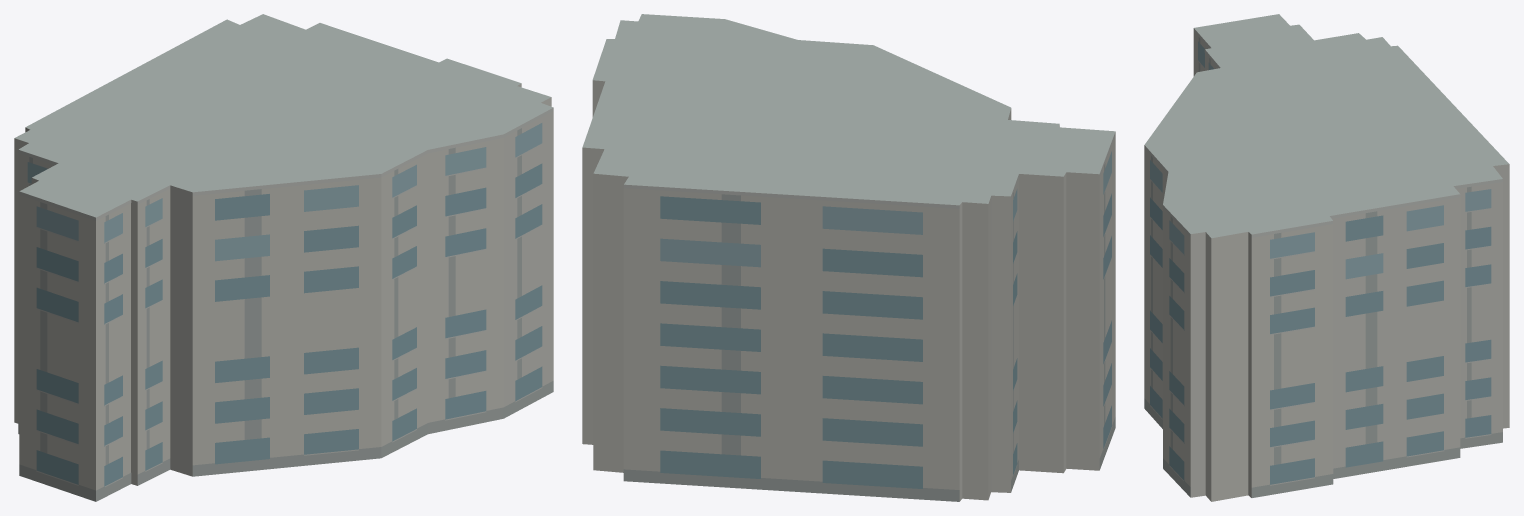
Rendered from survey-upis-32920580.glb.
3 renders of one model, left to right at view 1: azimuth 30°, elevation 25°; view 2: azimuth 150°, elevation 25°; view 3: azimuth 270°, elevation 25°, orthographic. The views are drawn at different scales.
Visible parts, largest first — view 1: survey-upis-32920580.tmp; view 2: survey-upis-32920580.tmp; view 3: survey-upis-32920580.tmp.
Part boxes in pixels (left/top/right/bottom): survey-upis-32920580.tmp: left=14, top=14, right=553, bottom=501; survey-upis-32920580.tmp: left=582, top=14, right=1115, bottom=501; survey-upis-32920580.tmp: left=1144, top=14, right=1509, bottom=501.
Bounding box in the file's own units: 36.68 × 20.1 × 25.24.
